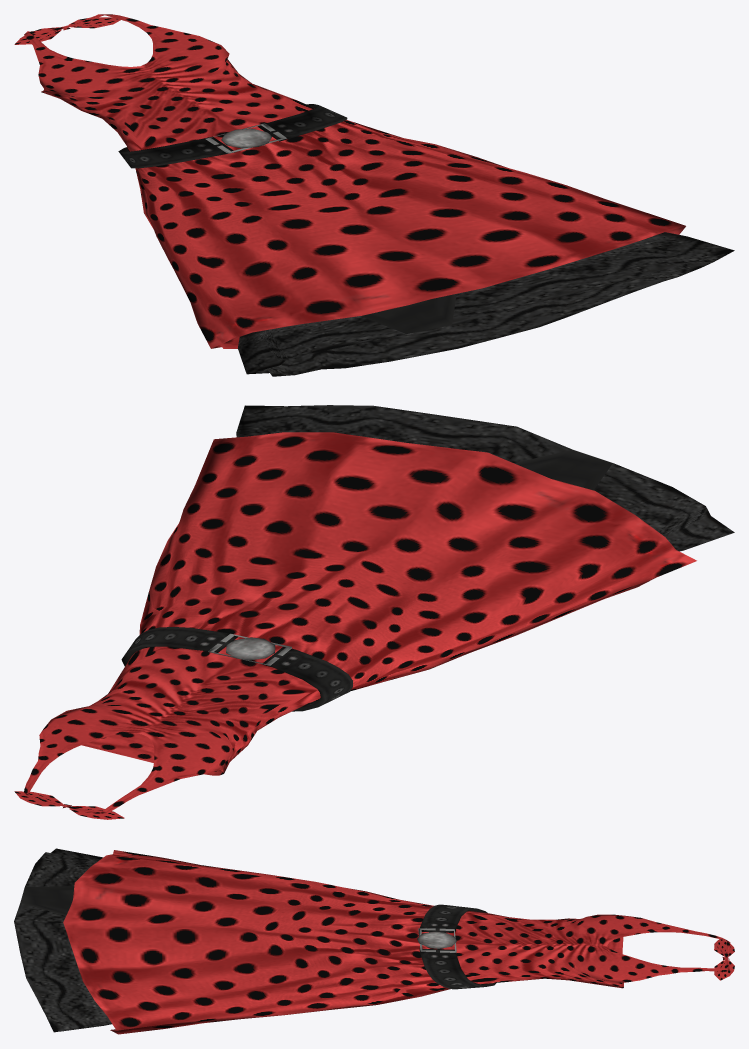
Rendered from RockabillyDress_Ground.fbx.
3 views of the same model, one above another, from view 1: azimuth 30°, elevation 25°; view 2: azimuth 150°, elevation 25°; view 3: azimuth 270°, elevation 25° (orthographic). The views are drawn at different scales.
Parts seen in each view (by area): view 1: Rockabilly Dress; view 2: Rockabilly Dress; view 3: Rockabilly Dress.
Boxes of the visible parts, <box> form: Rockabilly Dress: <box>14,14,734,376</box>; Rockabilly Dress: <box>14,405,734,819</box>; Rockabilly Dress: <box>14,848,734,1034</box>.
Size of the model in its own units: 0.4258 by 0.0427 by 0.6875.
